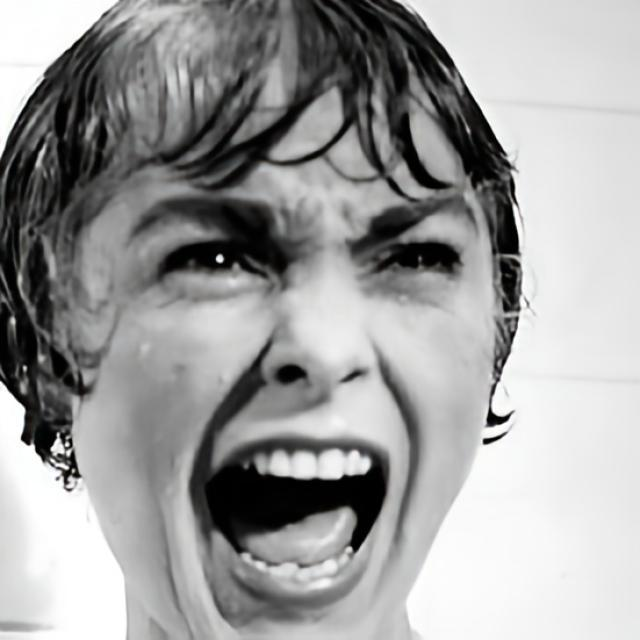fear: (74, 53, 500, 628)
